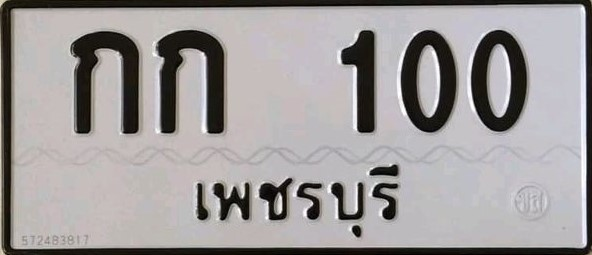txt01: (66, 28, 145, 136), (150, 27, 228, 136)
